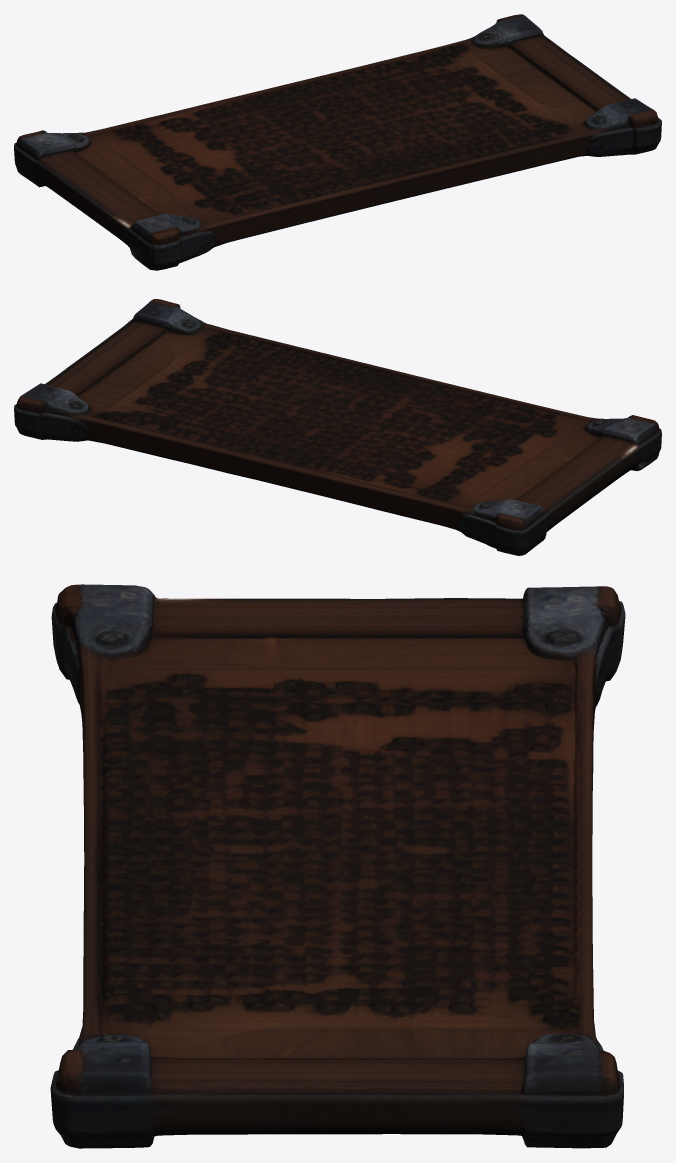
The model's file is jikji.glb.
The picture shows the model from 3 angles, top to bottom: view 1: azimuth 30°, elevation 25°; view 2: azimuth 150°, elevation 25°; view 3: azimuth 270°, elevation 25°; orthographic projection. The views are drawn at different scales.
Parts seen in each view (by area): view 1: world; view 2: world; view 3: world.
Part boxes in pixels (left/top/right/bottom): world: left=14, top=14, right=661, bottom=270; world: left=14, top=299, right=661, bottom=555; world: left=50, top=584, right=625, bottom=1148.
Size of the model in its own units: 0.6992 by 0.0483 by 0.3385.
1 material, 1 textured.
